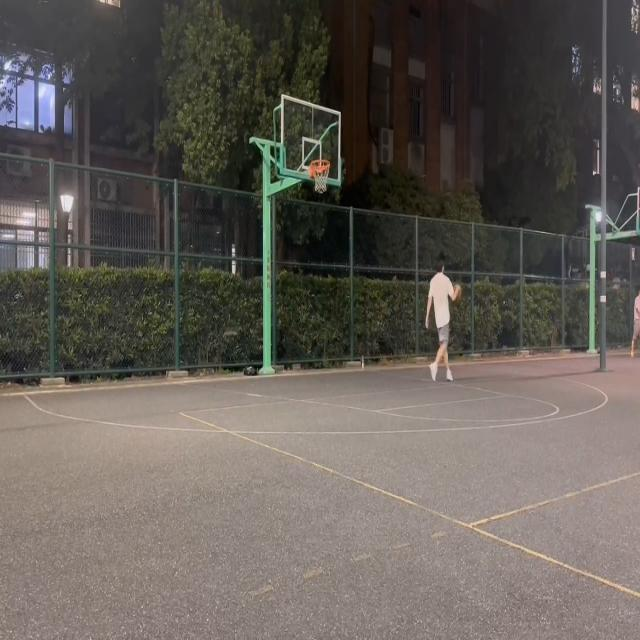basketball: (310, 160, 330, 192)
rim: (452, 284, 463, 303)
